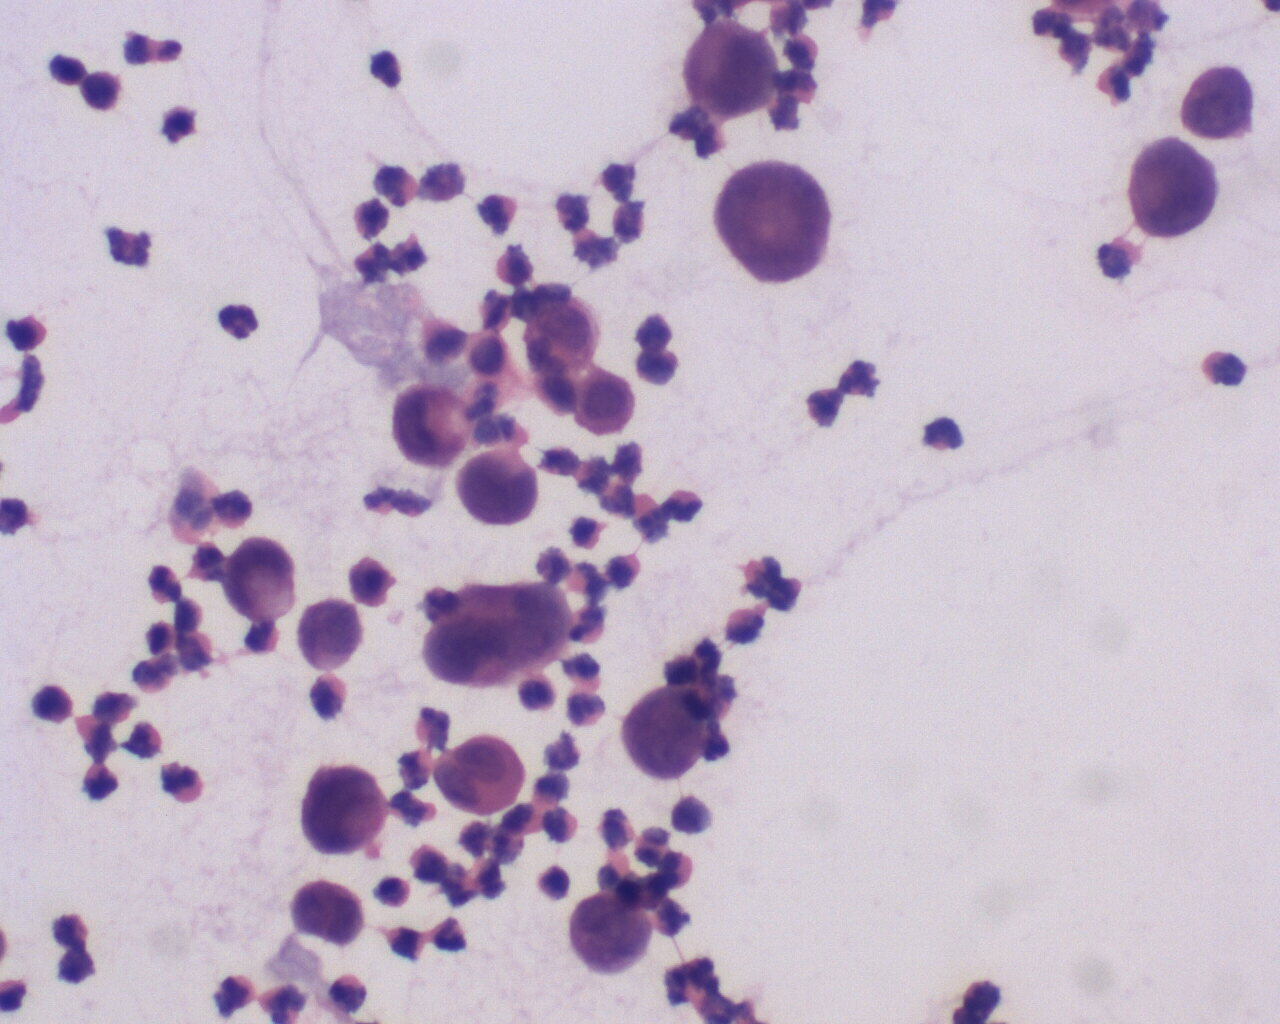ab: (711, 157, 844, 297), (677, 19, 781, 125), (1123, 133, 1224, 242), (616, 679, 709, 786), (293, 760, 388, 859), (561, 895, 657, 979), (453, 446, 549, 529), (385, 382, 474, 466), (1176, 59, 1257, 146), (287, 872, 373, 955), (520, 296, 607, 369), (294, 596, 366, 677)
meso: (571, 365, 639, 440)
neutro: (141, 556, 186, 608), (216, 301, 260, 345), (723, 602, 766, 647), (365, 47, 408, 91), (667, 478, 705, 526)
